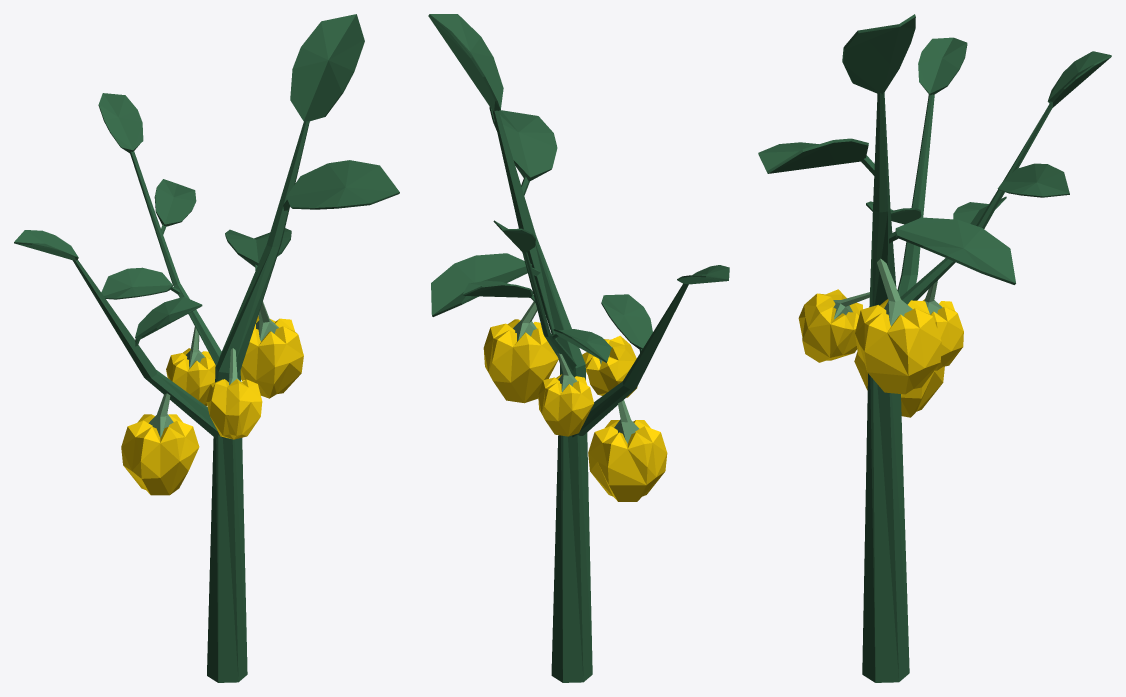
The model's file is mod_Plant_PoivronJauneM.fbx.
3 views of the same model, side by side, from view 1: azimuth 30°, elevation 25°; view 2: azimuth 150°, elevation 25°; view 3: azimuth 270°, elevation 25° (orthographic). The views are drawn at different scales.
Visible parts, largest first — view 1: TigePoivron.003; view 2: TigePoivron.003; view 3: TigePoivron.003.
Part boxes in pixels (bbox=[...]): TigePoivron.003: bbox=[14, 14, 399, 682]; TigePoivron.003: bbox=[428, 14, 729, 682]; TigePoivron.003: bbox=[758, 14, 1111, 682].
Size of the model in its own units: 46.74 by 87.08 by 38.42.
